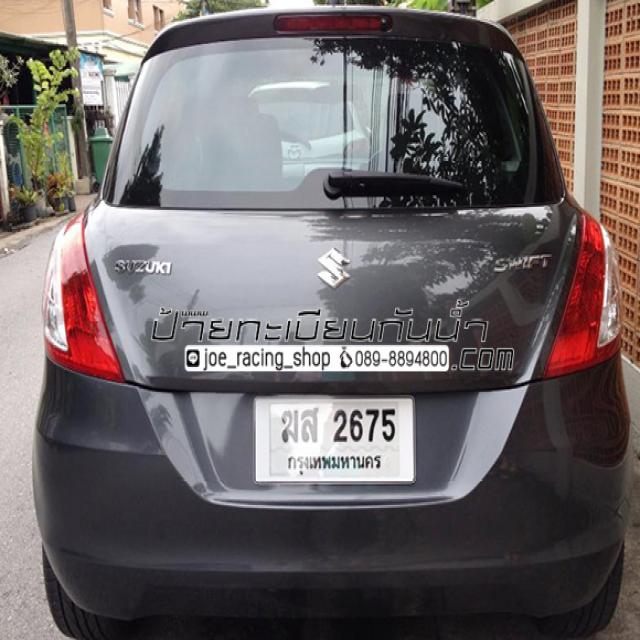license_plate: (252, 393, 417, 485)
